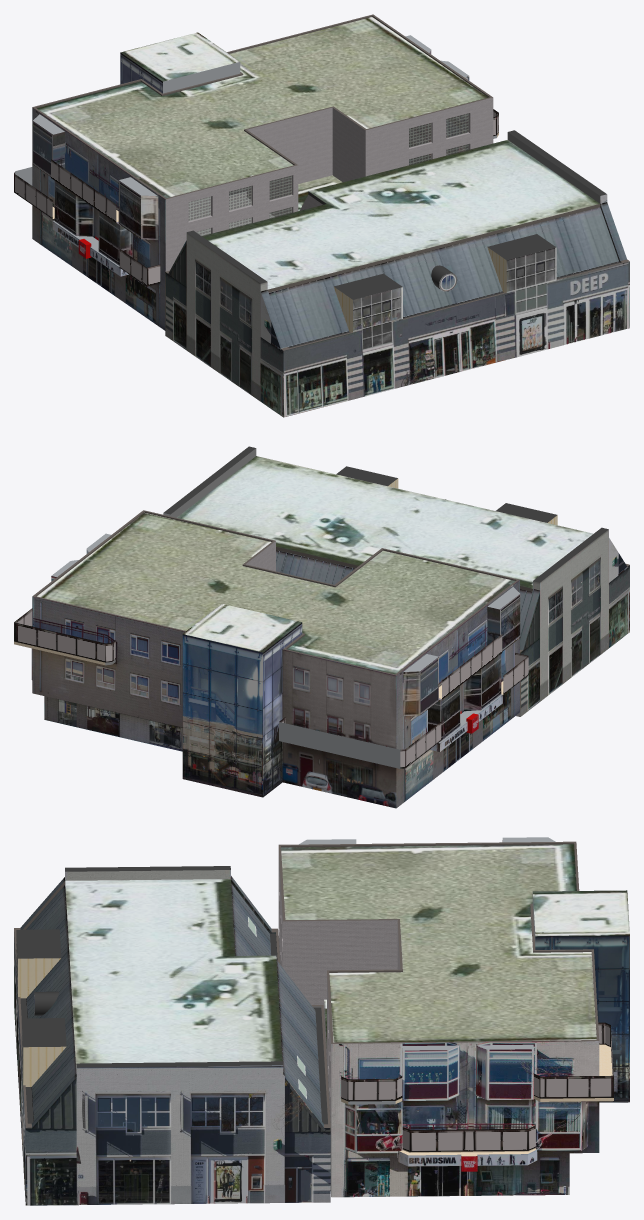
Rendered from Vanderven.fbx.
3 renders of one model, top to bottom at view 1: azimuth 30°, elevation 25°; view 2: azimuth 150°, elevation 25°; view 3: azimuth 270°, elevation 25°, orthographic. The views are drawn at different scales.
Visible parts, largest first — view 1: Group19, Group2, Group7, Group9, Group6, Group3, Group8, Group4, Group5; view 2: Group2, Group19, Group4, Group10, Group6, Group7, Group8, Group3, Group9, Group5; view 3: Group19, Group2, Group14, Group17, Group15, Group10, Group18, Group12, Group11, Group16, Group13.
Boxes of the visible parts, x1,y1,x2,y2 form: Group19: [165, 130, 629, 417]; Group2: [32, 14, 493, 330]; Group7: [118, 177, 158, 239]; Group9: [54, 181, 93, 236]; Group6: [32, 114, 64, 176]; Group3: [51, 159, 118, 222]; Group8: [98, 211, 132, 265]; Group4: [14, 167, 54, 218]; Group5: [119, 249, 160, 286]; Group2: [32, 510, 519, 808]; Group19: [163, 446, 629, 716]; Group4: [279, 717, 441, 768]; Group10: [14, 608, 115, 665]; Group6: [403, 654, 438, 716]; Group7: [487, 587, 520, 651]; Group8: [463, 654, 501, 711]; Group3: [439, 634, 502, 699]; Group9: [428, 686, 460, 741]; Group5: [501, 653, 528, 694]; Group19: [14, 866, 330, 1205]; Group2: [278, 841, 629, 1197]; Group14: [402, 1045, 459, 1100]; Group17: [476, 1044, 533, 1100]; Group15: [344, 1101, 402, 1153]; Group10: [534, 1022, 613, 1101]; Group18: [535, 1100, 587, 1151]; Group12: [398, 1149, 537, 1171]; Group11: [402, 1127, 469, 1152]; Group16: [341, 1075, 402, 1104]; Group13: [469, 1126, 535, 1152].
Size of the model in its own units: 31.03 by 11.36 by 36.78.
